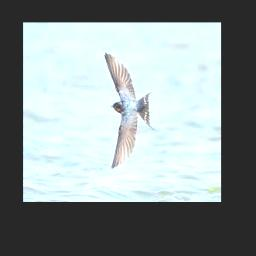Swallow: (105, 53, 157, 169)
